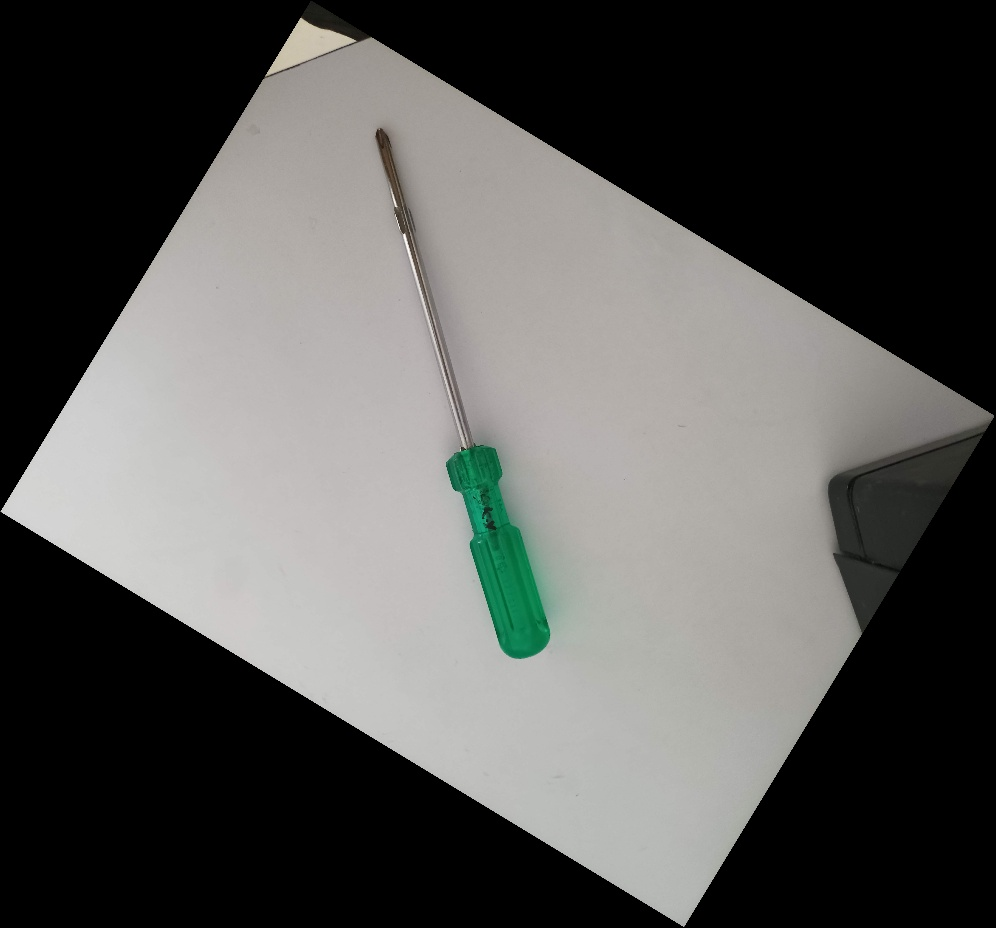screwdriver: (369, 122, 553, 660)
